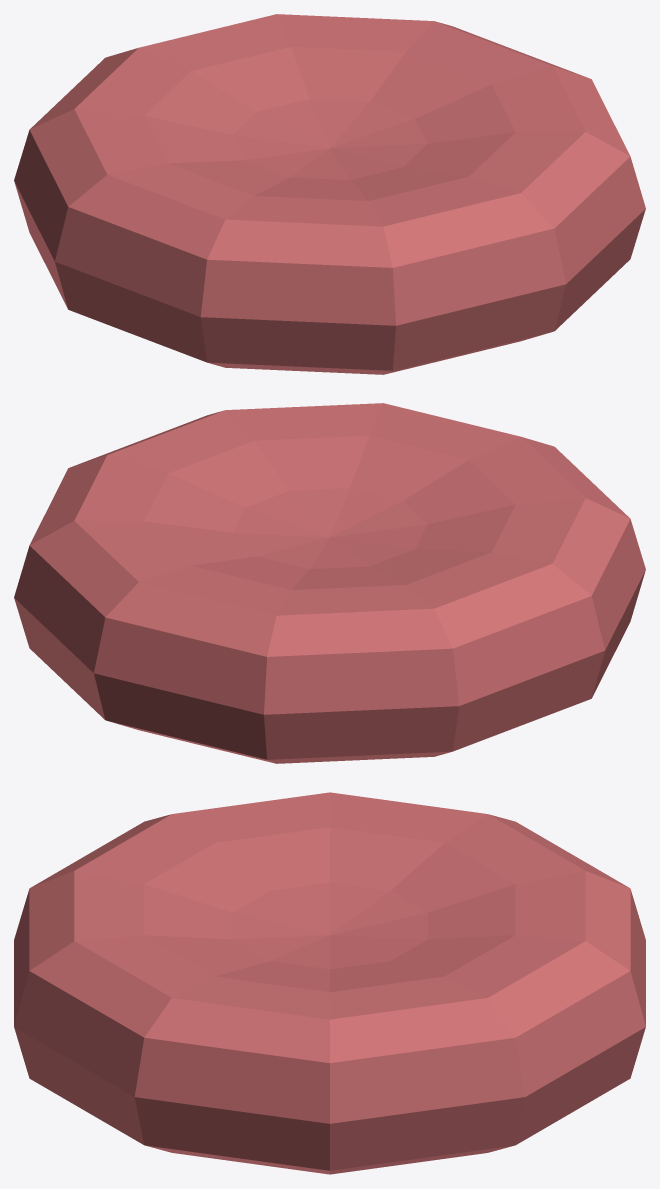
File: bloodcell.obj
3 renders of one model, top to bottom at view 1: azimuth 30°, elevation 25°; view 2: azimuth 150°, elevation 25°; view 3: azimuth 270°, elevation 25°, orthographic. The views are drawn at different scales.
Parts seen in each view (by area): view 1: Sphere.007; view 2: Sphere.007; view 3: Sphere.007.
Part boxes in pixels (x1,y1,x2,y2): Sphere.007: (14,14,645,374); Sphere.007: (14,403,645,763); Sphere.007: (14,792,645,1174).
Bounding box in the file's own units: 2 × 0.5147 × 1.9.
